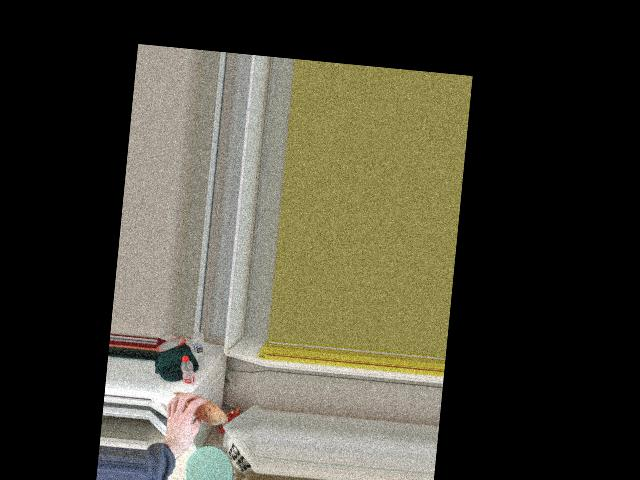sweet_potato: (169, 391, 224, 421)
